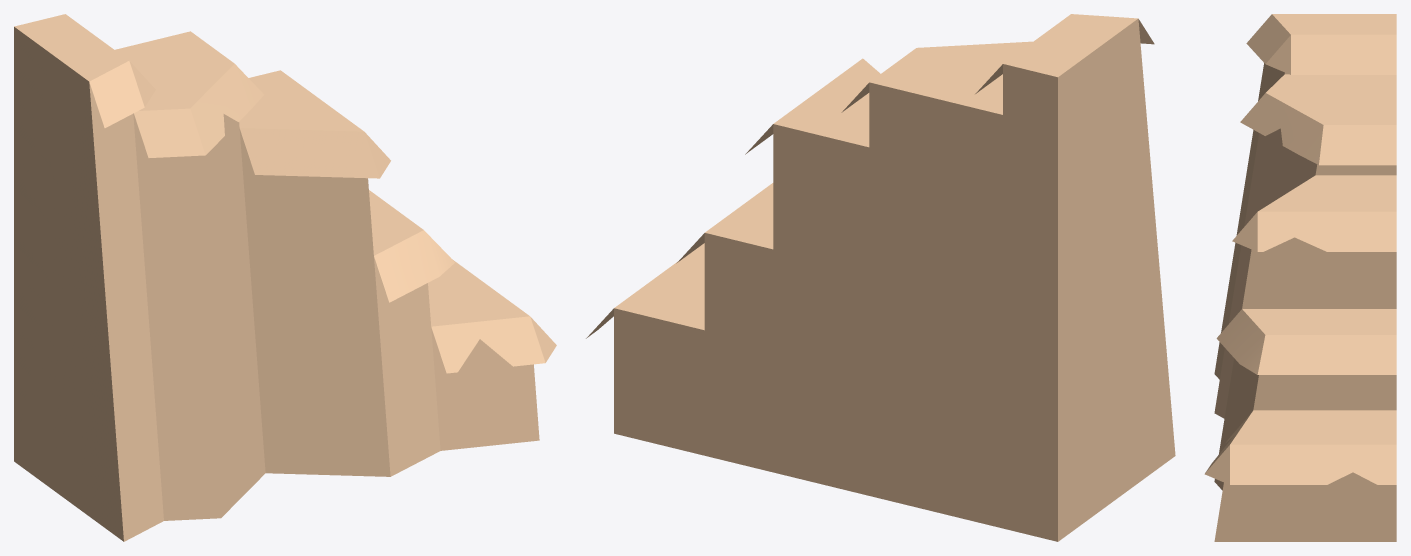
Rendered from cliffBrown_stepsEnd.fbx.
3 renders of one model, left to right at view 1: azimuth 30°, elevation 25°; view 2: azimuth 150°, elevation 25°; view 3: azimuth 270°, elevation 25°, orthographic. The views are drawn at different scales.
Visible parts, largest first — view 1: cliffBrown_stepsEnd; view 2: cliffBrown_stepsEnd; view 3: cliffBrown_stepsEnd.
Boxes of the visible parts, x1,y1,x2,y2 form: cliffBrown_stepsEnd: (14,14,556,541); cliffBrown_stepsEnd: (586,14,1175,541); cliffBrown_stepsEnd: (1204,14,1396,541).
Bounding box in the file's own units: 319 × 300 × 145.
